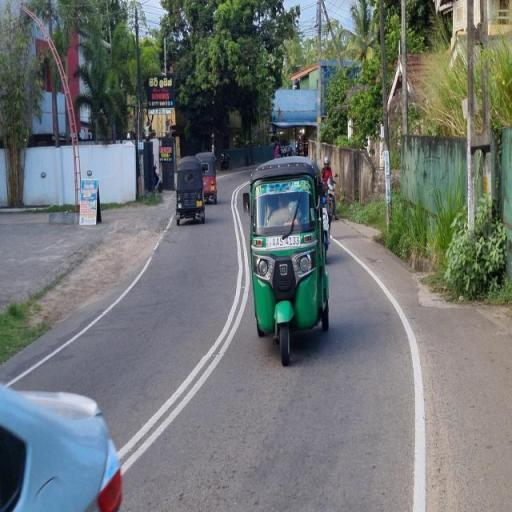double_white_line: (110, 178, 246, 472)
